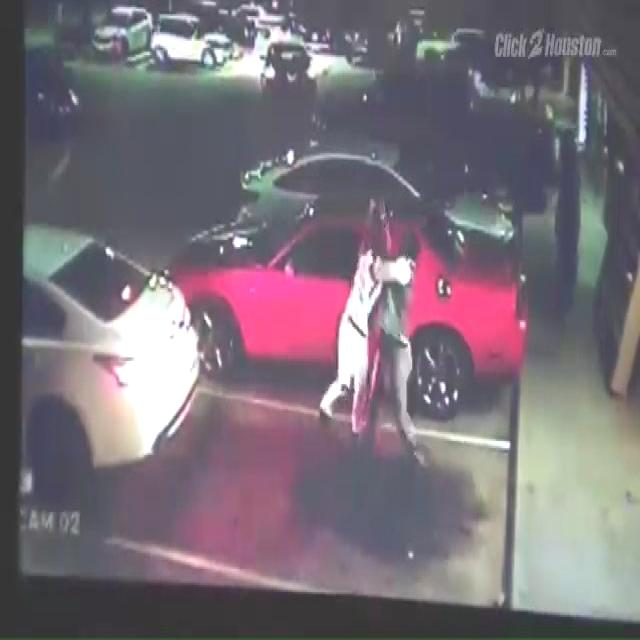fight: (323, 197, 423, 472)
